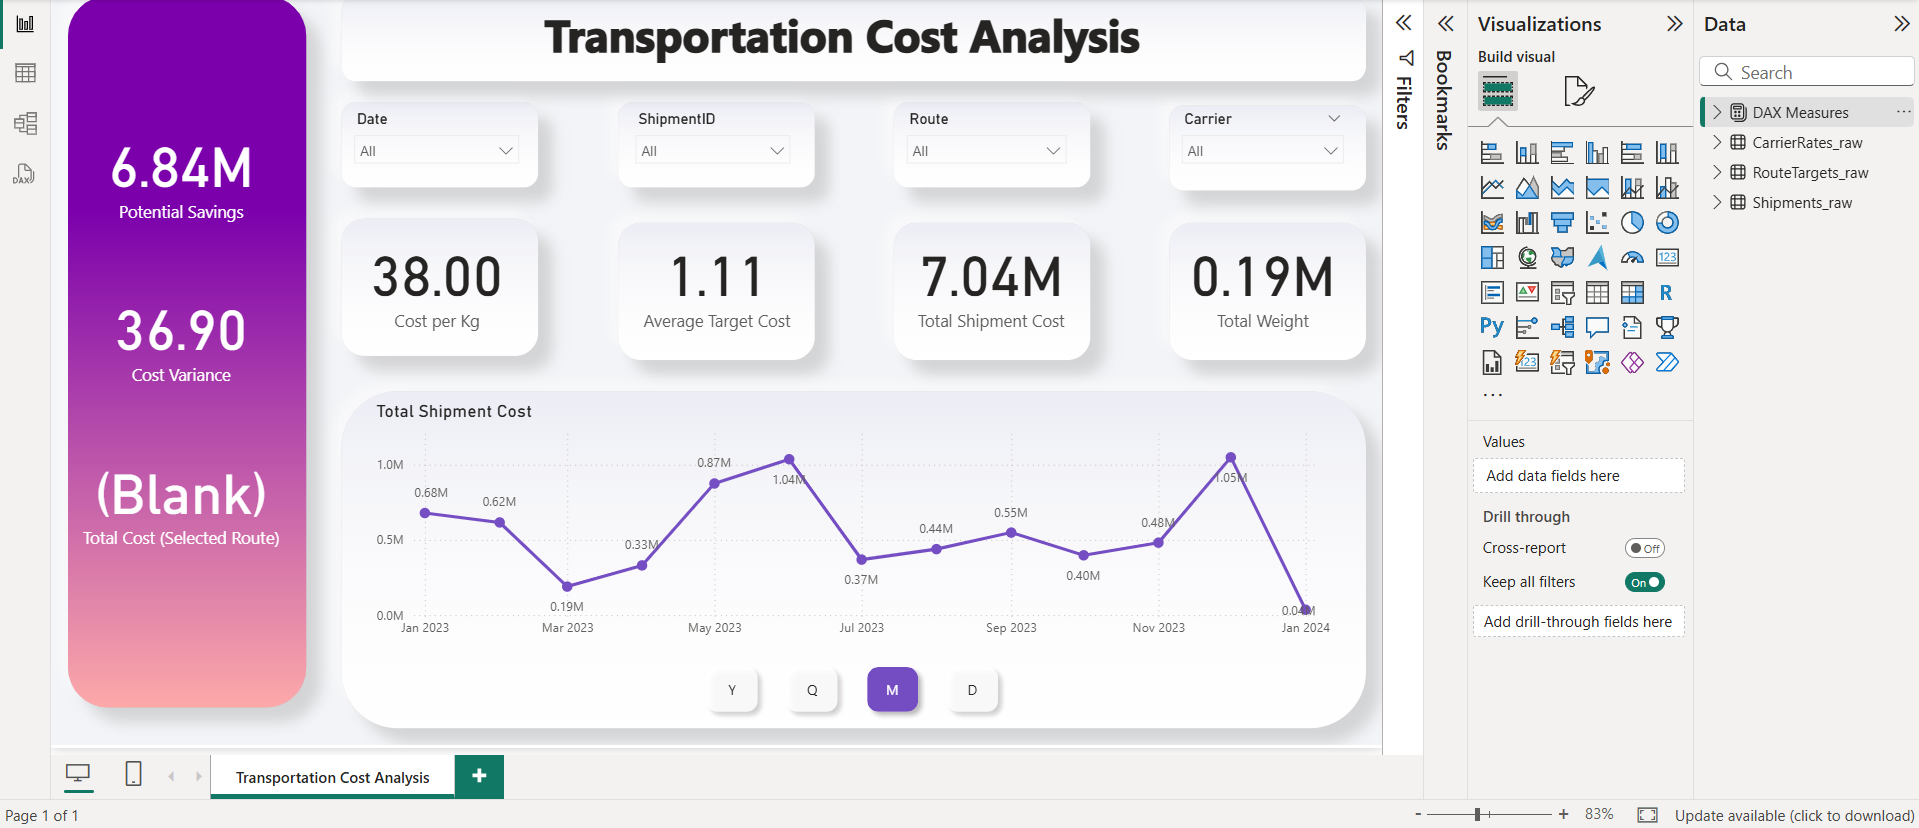

This screenshot's page, from the dashboard's own definition file:
{"tool":"powerbi","page":{"name":"Transportation Cost Analysis","canvas":[1280,720],"ordinal":0},"visuals":[{"type":"textbox","box":[253.2,0,1014.3,75.1],"z":0},{"type":"card","fields":{"Values":["DAX Measures.Cost per Kg"]},"box":[282.4,212.3,177.9,116.6],"z":1000},{"type":"card","fields":{"Values":["DAX Measures.Avg Target Cost per Kg"]},"box":[556.5,208.1,168.3,125],"z":2000},{"type":"card","fields":{"Values":["DAX Measures.Total Shipment Cost"]},"box":[817.9,216.5,173.8,108.3],"z":3000},{"type":"card","fields":{"Values":["DAX Measures.Total Weight"]},"box":[1061.9,204,206,133.3],"z":4000},{"type":"slicer","fields":{"Values":["CarrierRates_raw.Carrier"]},"box":[1077.4,102.4,176.2,64.3],"z":5000},{"type":"slicer","fields":{"Values":["RouteTargets_raw.Route"]},"box":[811.9,102.4,173.8,64.3],"z":6000},{"type":"slicer","fields":{"Values":["Shipments_raw.ShipmentID"]},"box":[551.2,102.4,169,64.3],"z":7000},{"type":"slicer","fields":{"Values":["Shipments_raw.Date"]},"box":[281,102.4,178.6,64.3],"z":8000},{"type":"lineChart","title":"Total Shipment Cost","fields":{"Category":["Shipments_raw.Date.Variation.Date Hierarchy.Year","Shipments_raw.Date.Variation.Date Hierarchy.Quarter","Shipments_raw.Date.Variation.Date Hierarchy.Month","Shipments_raw.Date.Variation.Date Hierarchy.Day"],"Y":["DAX Measures.Total Shipment Cost"]},"box":[307.7,385.8,927.8,236.8],"z":9000},{"type":"card","fields":{"Values":["DAX Measures.Potential Savings"]},"box":[23.9,93.7,202.7,144.8],"z":10000},{"type":"card","fields":{"Values":["DAX Measures.Cost Variance"]},"box":[23.9,250.6,202.7,144.8],"z":11000},{"type":"card","fields":{"Values":["DAX Measures.Total Cost (Selected Route)"]},"box":[23.9,407.4,202.7,144.8],"z":12000},{"type":"bookmarkNavigator","box":[621.4,633.4,300.5,61.3],"z":13000}]}

Visuals, with their boxes on the page's 1280x720 design canvas (x1, y1, x2, y2). These are canvas units, not pixel positions in the 1919x828 screenshot, which may show the page scaled, cropped or inside an application window:
textbox: (253,0,1268,75)
card - DAX Measures.Cost per Kg: (282,212,460,329)
card - DAX Measures.Avg Target Cost per Kg: (556,208,725,333)
card - DAX Measures.Total Shipment Cost: (818,216,992,325)
card - DAX Measures.Total Weight: (1062,204,1268,337)
slicer - CarrierRates_raw.Carrier: (1077,102,1254,167)
slicer - RouteTargets_raw.Route: (812,102,986,167)
slicer - Shipments_raw.ShipmentID: (551,102,720,167)
slicer - Shipments_raw.Date: (281,102,460,167)
"Total Shipment Cost" lineChart: (308,386,1236,623)
card - DAX Measures.Potential Savings: (24,94,227,238)
card - DAX Measures.Cost Variance: (24,251,227,395)
card - DAX Measures.Total Cost (Selected Route): (24,407,227,552)
bookmarkNavigator: (621,633,922,695)
